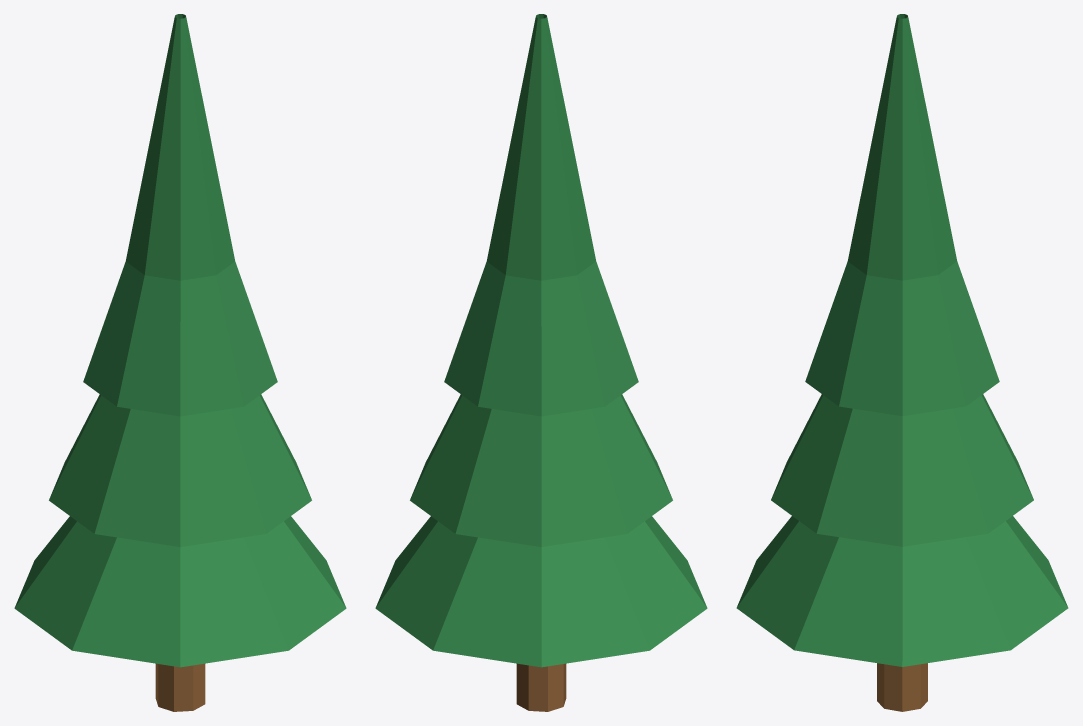
File: pino.fbx
3 renders of one model, left to right at view 1: azimuth 30°, elevation 25°; view 2: azimuth 150°, elevation 25°; view 3: azimuth 270°, elevation 25°, orthographic.
Parts seen in each view (by area): view 1: Pino_Copa, Pino_Tronco; view 2: Pino_Copa, Pino_Tronco; view 3: Pino_Copa, Pino_Tronco.
Boxes of the visible parts, x1,y1,x2,y2 form: Pino_Copa: [14, 14, 346, 667]; Pino_Tronco: [155, 663, 205, 711]; Pino_Copa: [375, 14, 707, 667]; Pino_Tronco: [516, 663, 566, 711]; Pino_Copa: [736, 14, 1068, 666]; Pino_Tronco: [877, 663, 927, 711].
Bounding box in the file's own units: 281 × 650 × 286.
